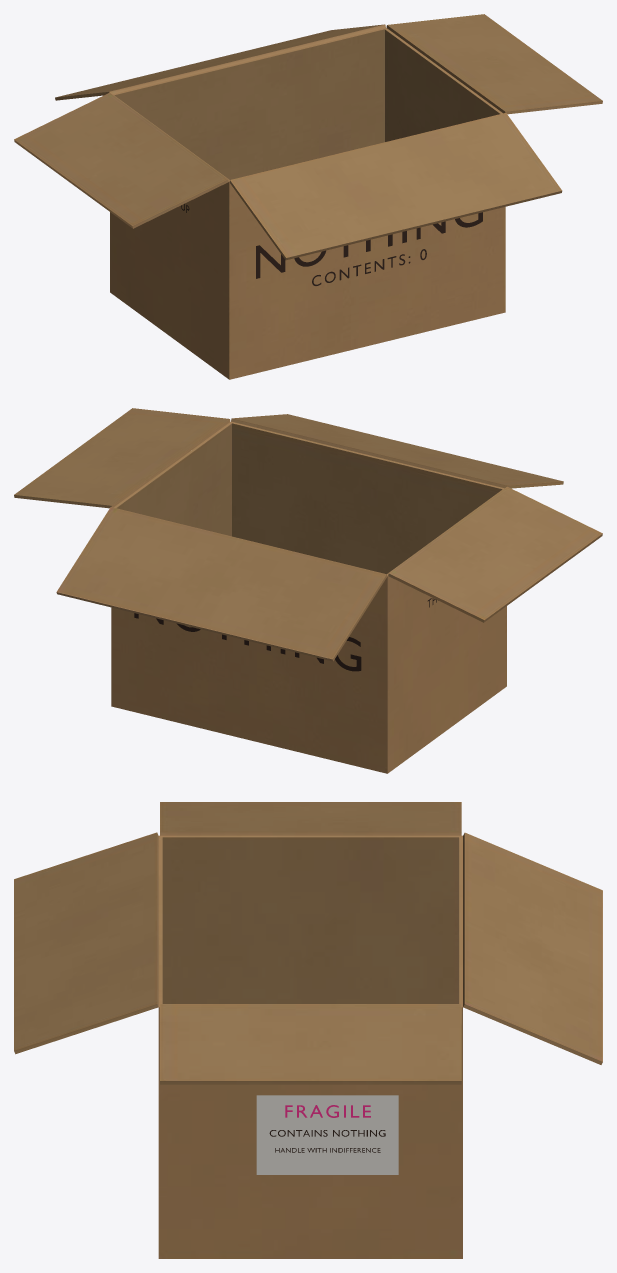
The picture shows the model from 3 angles, top to bottom: view 1: azimuth 30°, elevation 25°; view 2: azimuth 150°, elevation 25°; view 3: azimuth 270°, elevation 25°; orthographic projection. The views are drawn at different scales.
Visible parts, largest first — view 1: Box; view 2: Box; view 3: Box.
Boxes of the visible parts, x1=… form: Box: x1=14, y1=14, x2=602, y2=379; Box: x1=14, y1=408, x2=602, y2=773; Box: x1=14, y1=802, x2=602, y2=1258.
Bounding box in the file's own units: 2.04 × 0.8319 × 1.74.
Materials: 4 (1 with a texture image).
